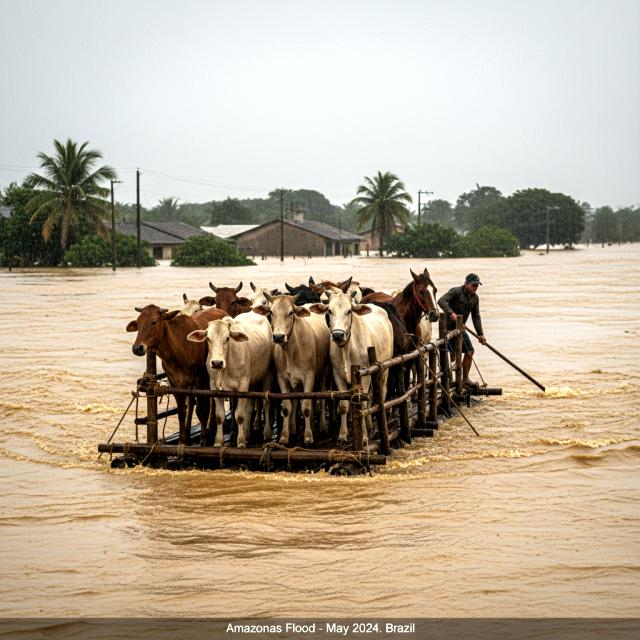civilian: (438, 268, 488, 393)
cow: (122, 301, 233, 446), (304, 289, 395, 452), (184, 311, 278, 449), (258, 289, 337, 447), (282, 273, 377, 310), (196, 282, 254, 322), (308, 278, 362, 306), (246, 282, 287, 310), (178, 292, 212, 321)
horse: (364, 267, 441, 357)
